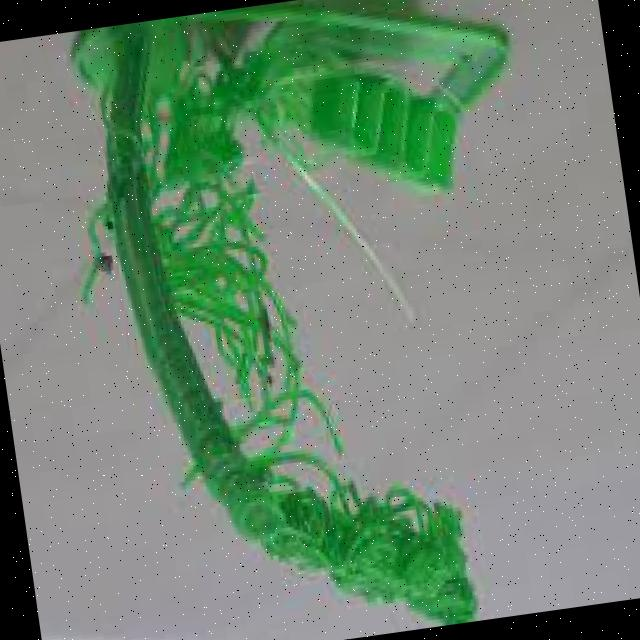spaghetti: (133, 25, 353, 482), (196, 450, 491, 640)
